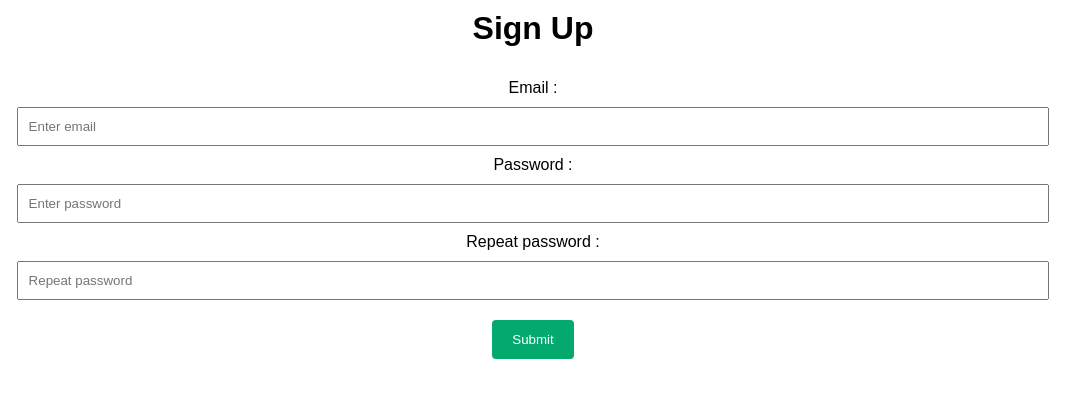
Test: Signup existing email › should display an error when email is already used
The image size is (1066, 413).
Type "test@test" into the field with test id "email". click: [533, 126]
box: [17, 107, 1049, 146]
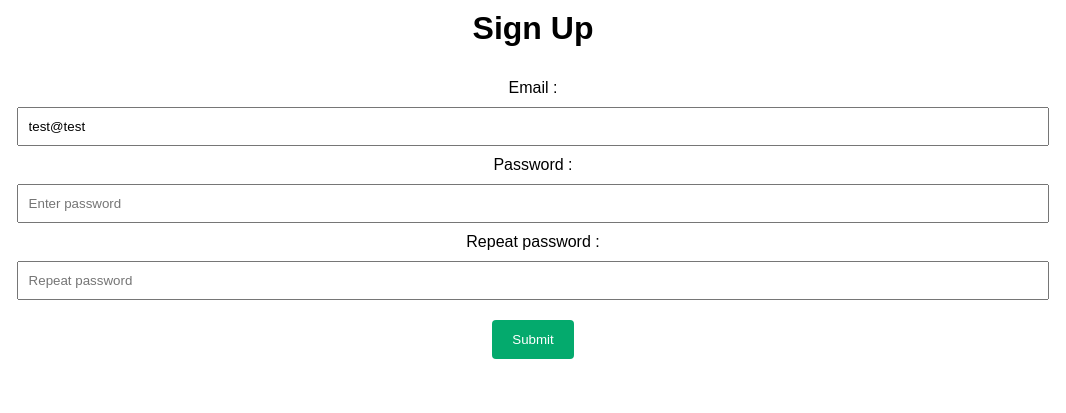
Type "12345678" into the password field with test id "password". click: [533, 203]
box: [17, 184, 1049, 223]
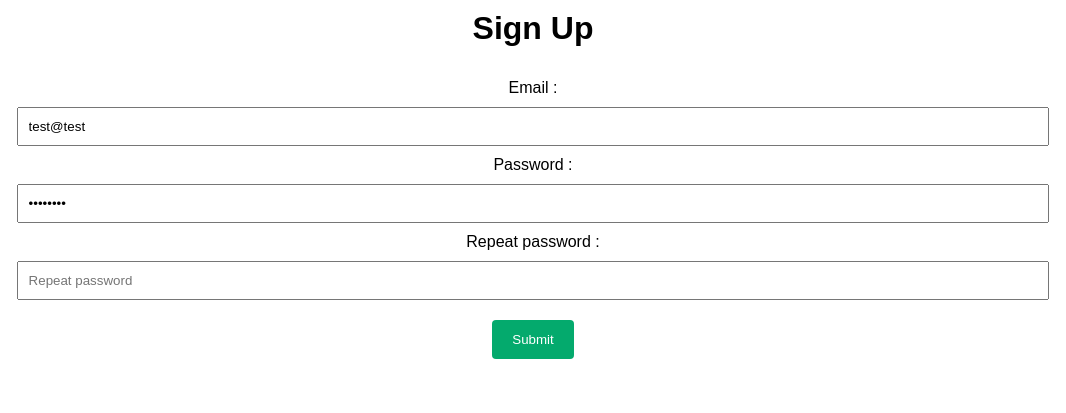
Type "12345678" into the password field with test id "repeat-password". click: [533, 280]
box: [17, 261, 1049, 300]
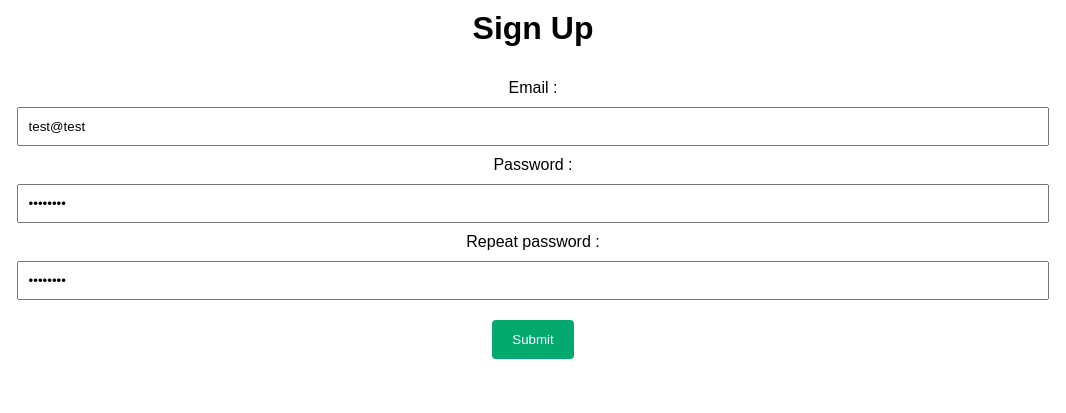
Click the button with test id "submit". click: [533, 339]
box: [492, 320, 574, 359]
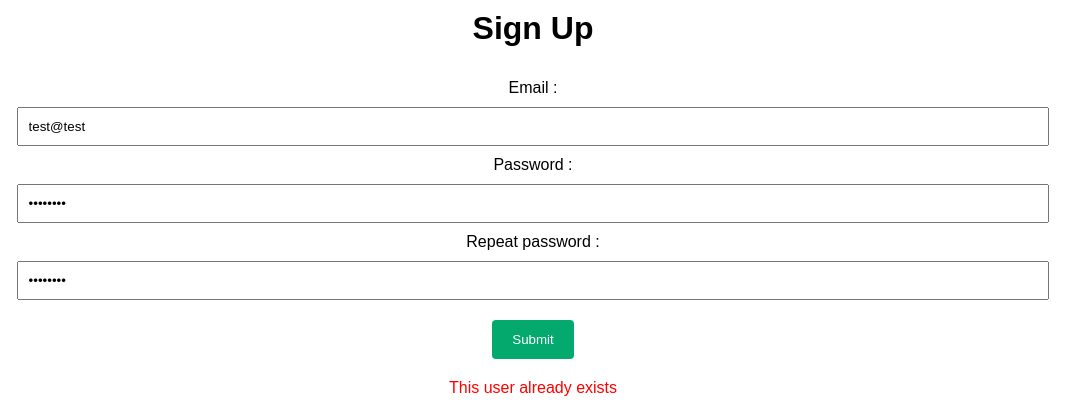
Expected: the text "This user already exists" is shown, [449, 379, 617, 396]
